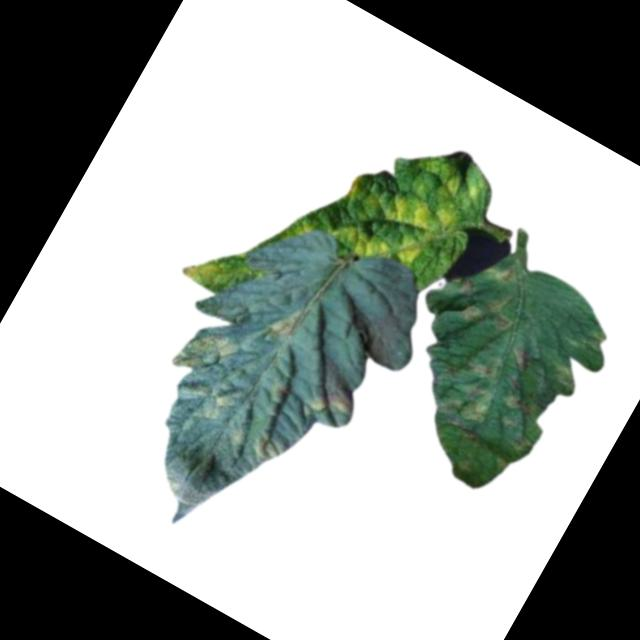Leaf_Mold: (340, 175, 459, 290), (170, 318, 238, 386), (459, 279, 524, 343), (297, 369, 364, 431), (184, 371, 240, 427), (450, 377, 502, 433), (263, 295, 310, 348), (479, 240, 530, 288), (496, 378, 547, 426), (179, 247, 228, 294), (247, 429, 289, 470), (503, 341, 542, 379), (545, 360, 581, 396), (340, 172, 367, 202)
